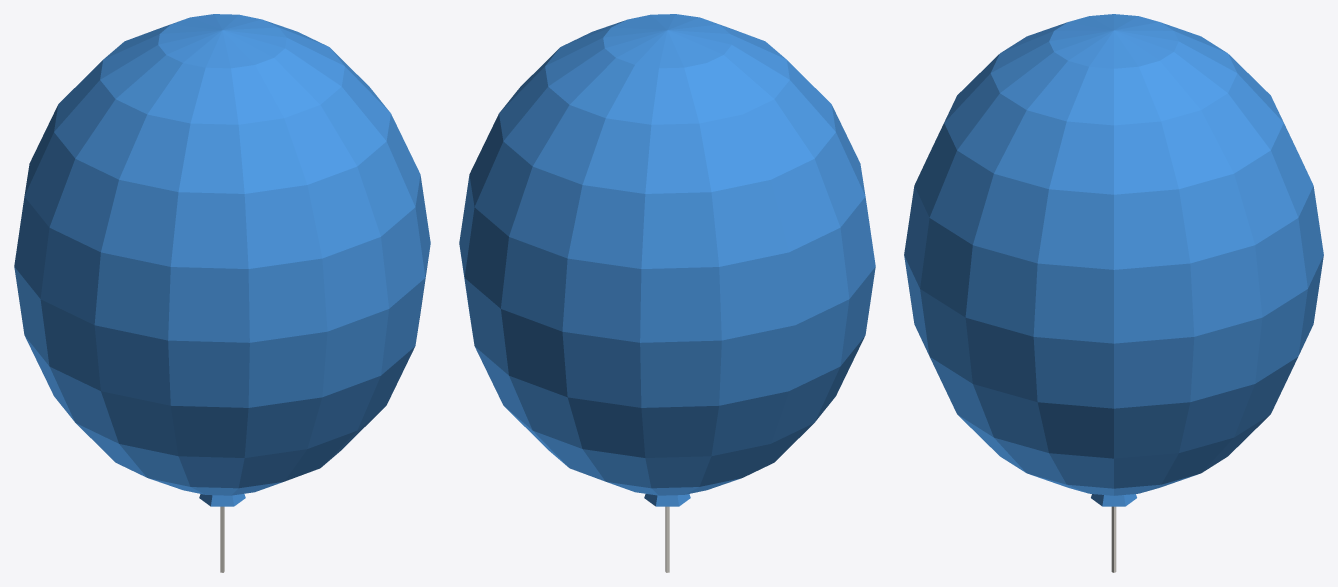
File: balloon_blue.glb
3 renders of one model, left to right at view 1: azimuth 30°, elevation 25°; view 2: azimuth 150°, elevation 25°; view 3: azimuth 270°, elevation 25°, orthographic.
Visible parts, largest first — view 1: balloon_blue; view 2: balloon_blue; view 3: balloon_blue.
Boxes of the visible parts, left/top/right/bottom form: balloon_blue: left=14, top=14, right=430, bottom=572; balloon_blue: left=459, top=14, right=875, bottom=572; balloon_blue: left=904, top=14, right=1323, bottom=572.
Bounding box in the file's own units: 0.18 × 0.2562 × 0.18.
